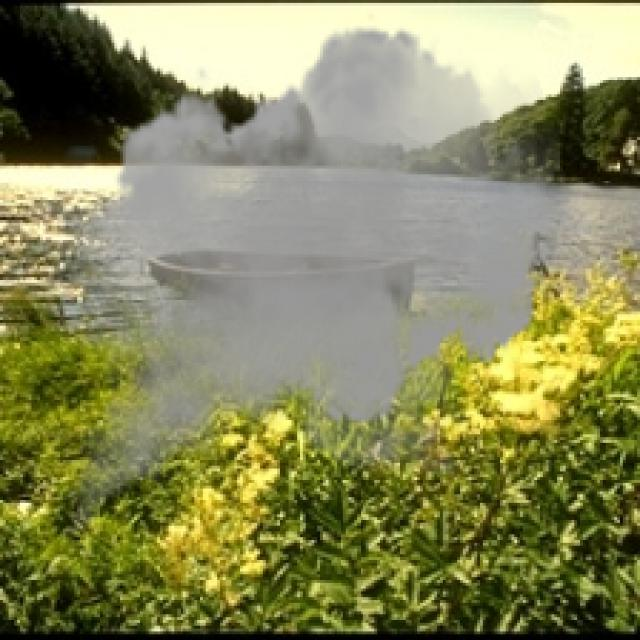smoke: (54, 11, 597, 566)
